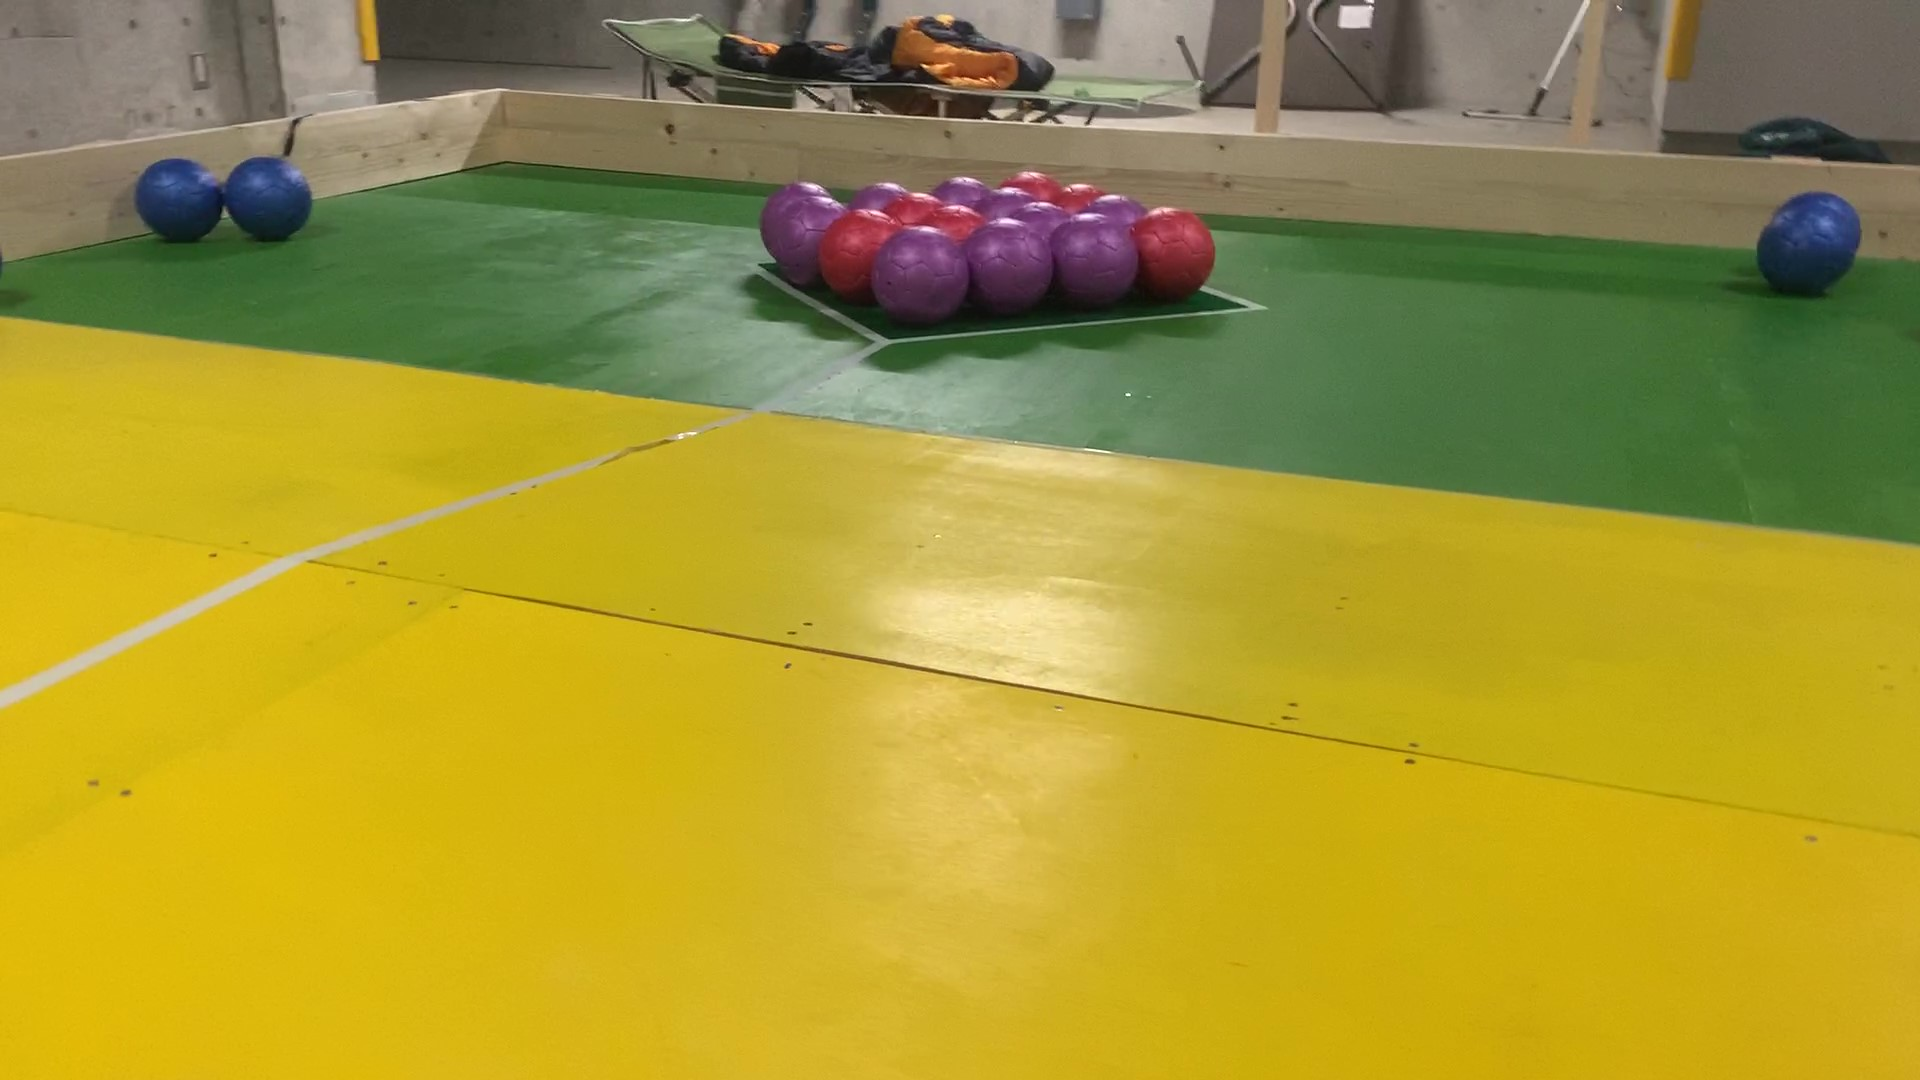blue: (141, 171, 212, 233), (1768, 223, 1836, 286), (236, 171, 303, 229), (1793, 194, 1849, 216)
purple: (885, 233, 951, 313), (1064, 225, 1126, 298), (982, 231, 1035, 301), (791, 207, 820, 272), (936, 178, 989, 207), (1021, 202, 1064, 228), (860, 185, 903, 210), (767, 182, 825, 200), (1092, 199, 1142, 219), (1013, 174, 1059, 195), (990, 193, 1023, 219)
red: (1154, 216, 1205, 293), (832, 220, 869, 298), (897, 196, 938, 222), (934, 210, 975, 235), (1059, 186, 1102, 208)
